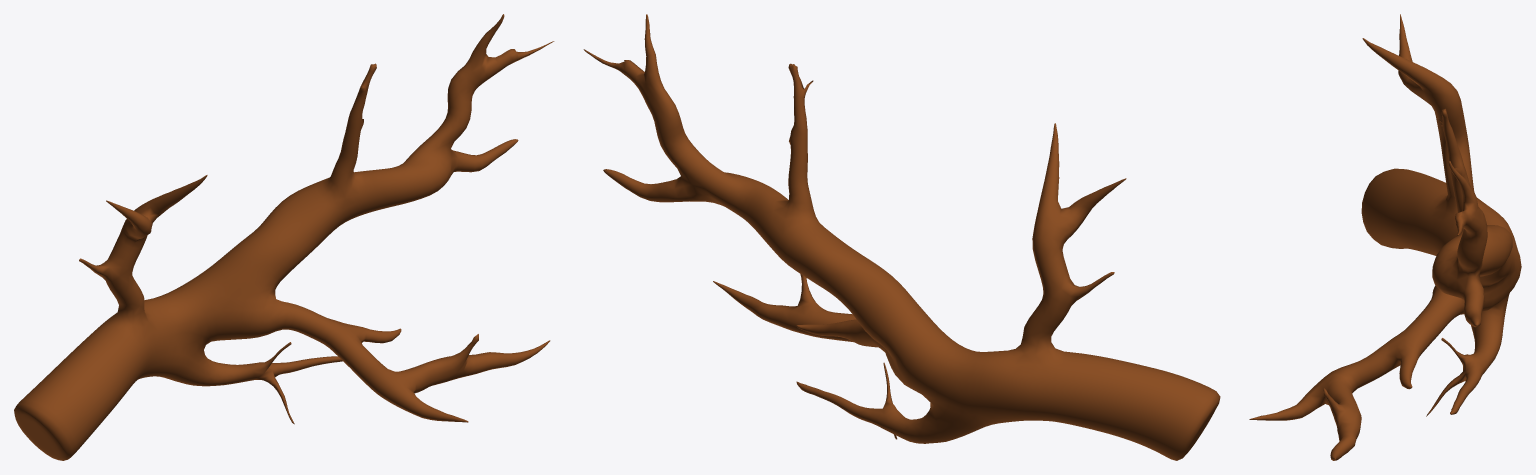
Rendered from branch1.fbx.
The picture shows the model from 3 angles, left to right: view 1: azimuth 30°, elevation 25°; view 2: azimuth 150°, elevation 25°; view 3: azimuth 270°, elevation 25°; orthographic projection. The views are drawn at different scales.
Visible parts, largest first — view 1: TreeBranch; view 2: TreeBranch; view 3: TreeBranch.
Boxes of the visible parts, left/top/right/bottom form: TreeBranch: left=14, top=14, right=554, bottom=460; TreeBranch: left=583, top=14, right=1220, bottom=460; TreeBranch: left=1249, top=14, right=1521, bottom=460.
Bounding box in the file's own units: 7 × 4.18 × 2.79.
